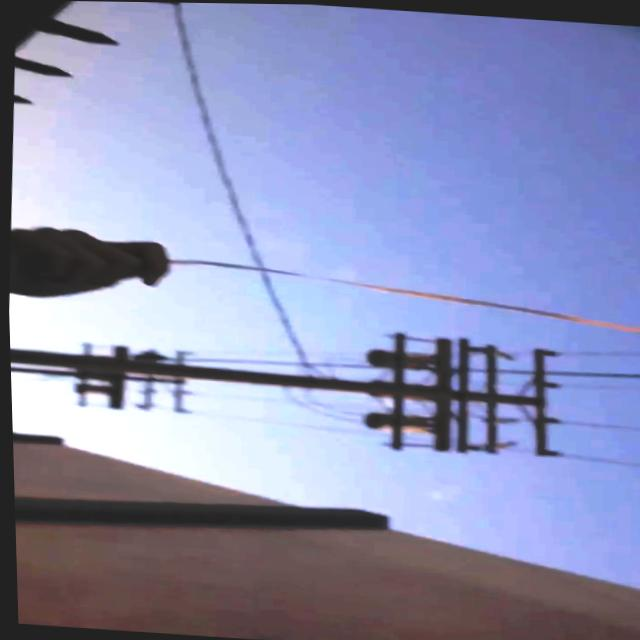poles: (8, 332, 560, 453), (9, 366, 187, 412), (83, 342, 188, 363)
wires: (186, 354, 367, 367), (553, 449, 640, 464), (553, 417, 640, 429), (544, 368, 640, 376), (497, 367, 526, 372)
